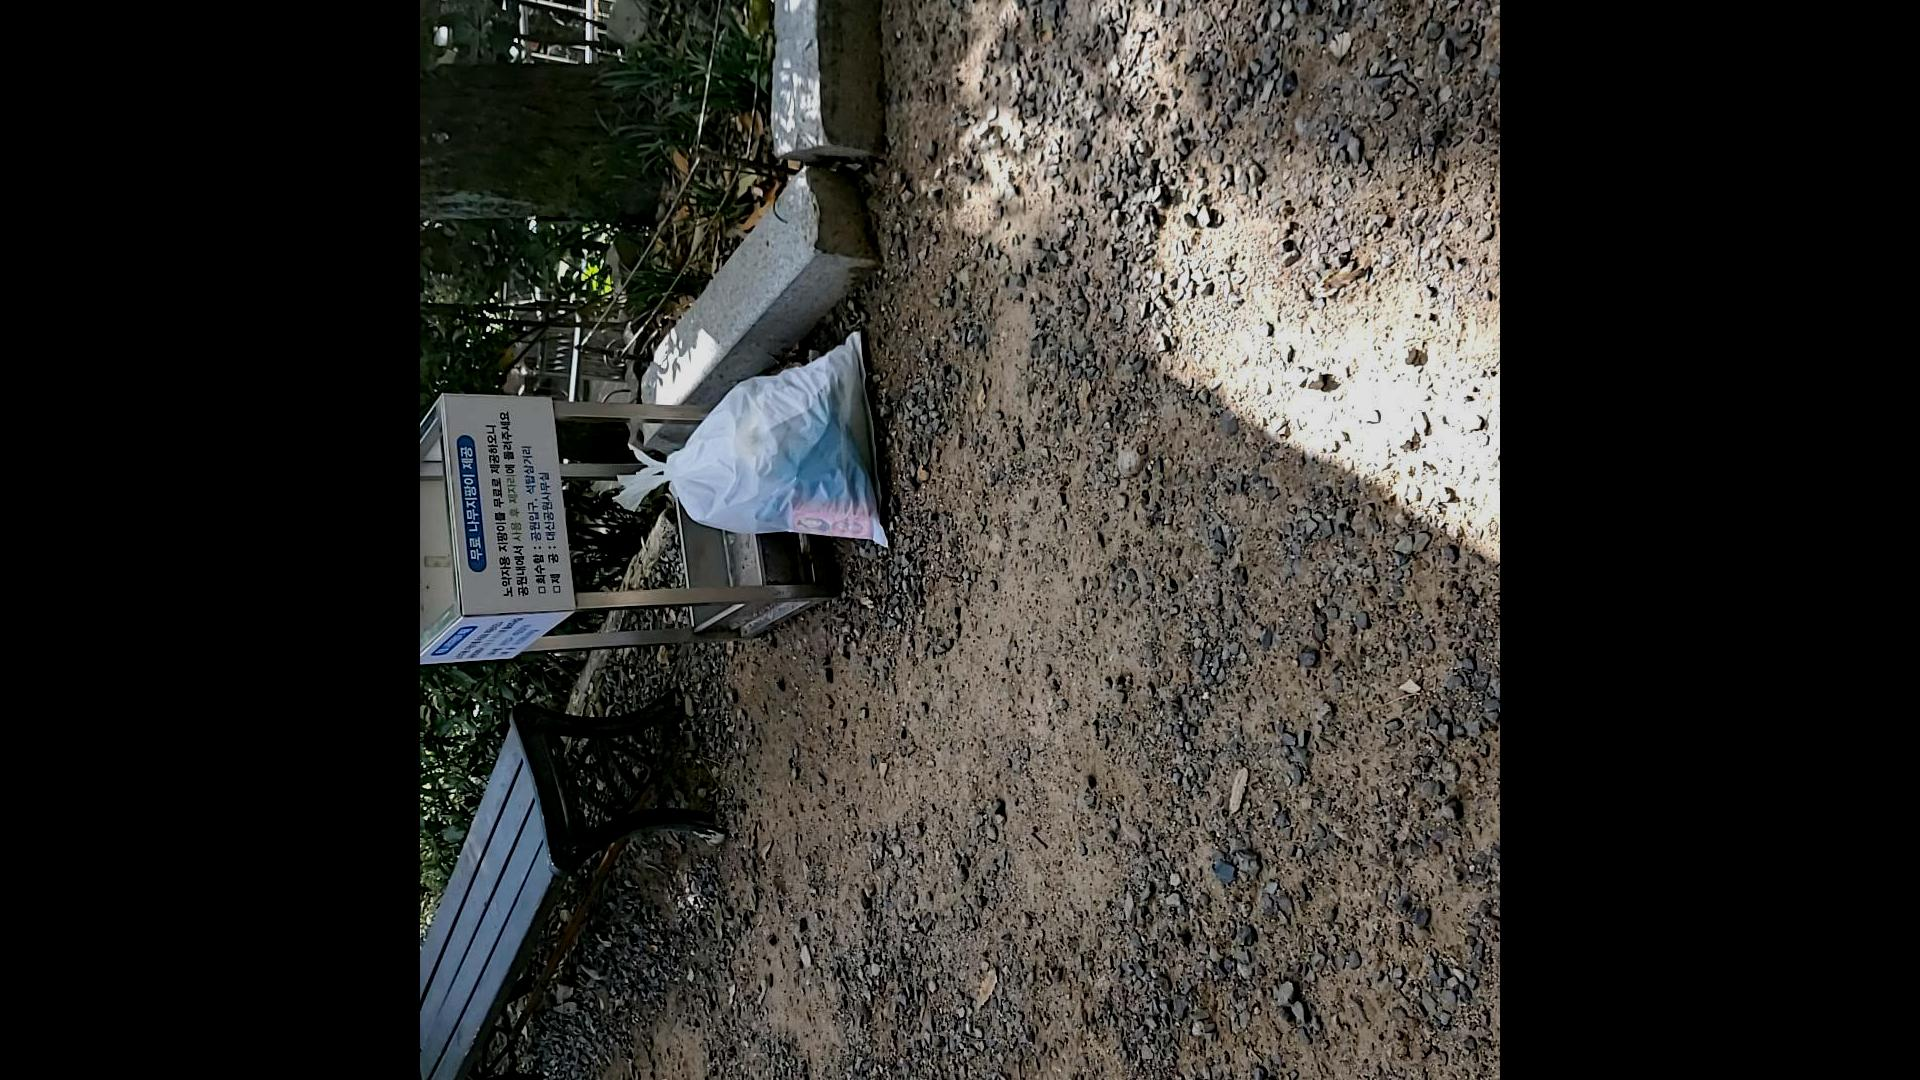white_bag: (589, 314, 905, 564)
